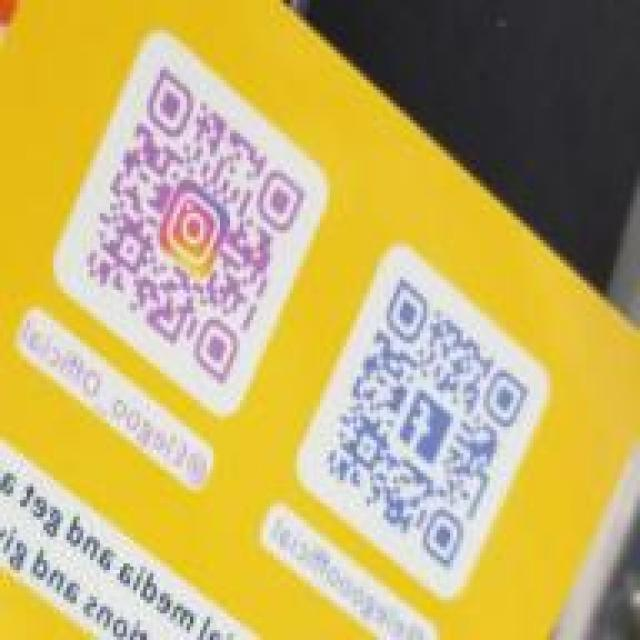qr_code: (86, 70, 307, 386), (323, 278, 529, 569)
